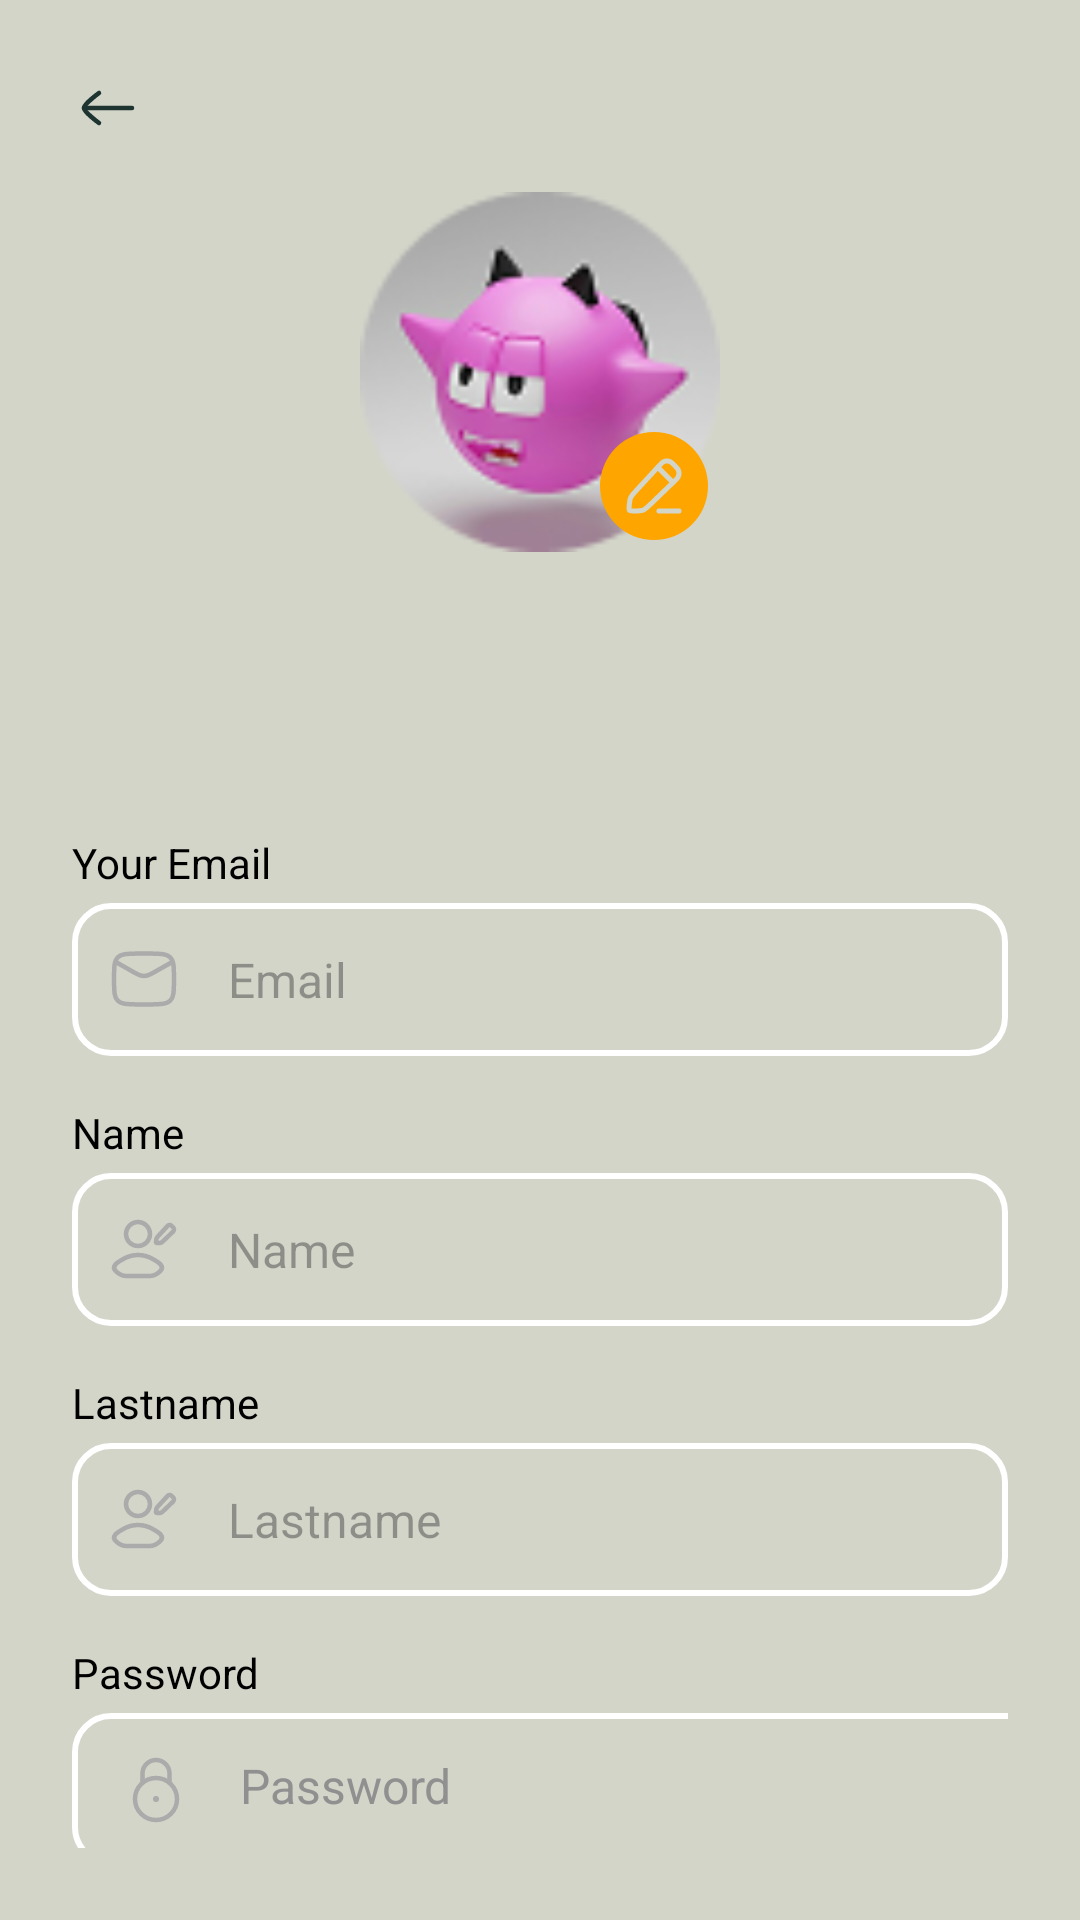

Screen size 1080*1920. Icon name, then its center in pixels as (x,y):
back: (107,108)
edit: (654,486)
